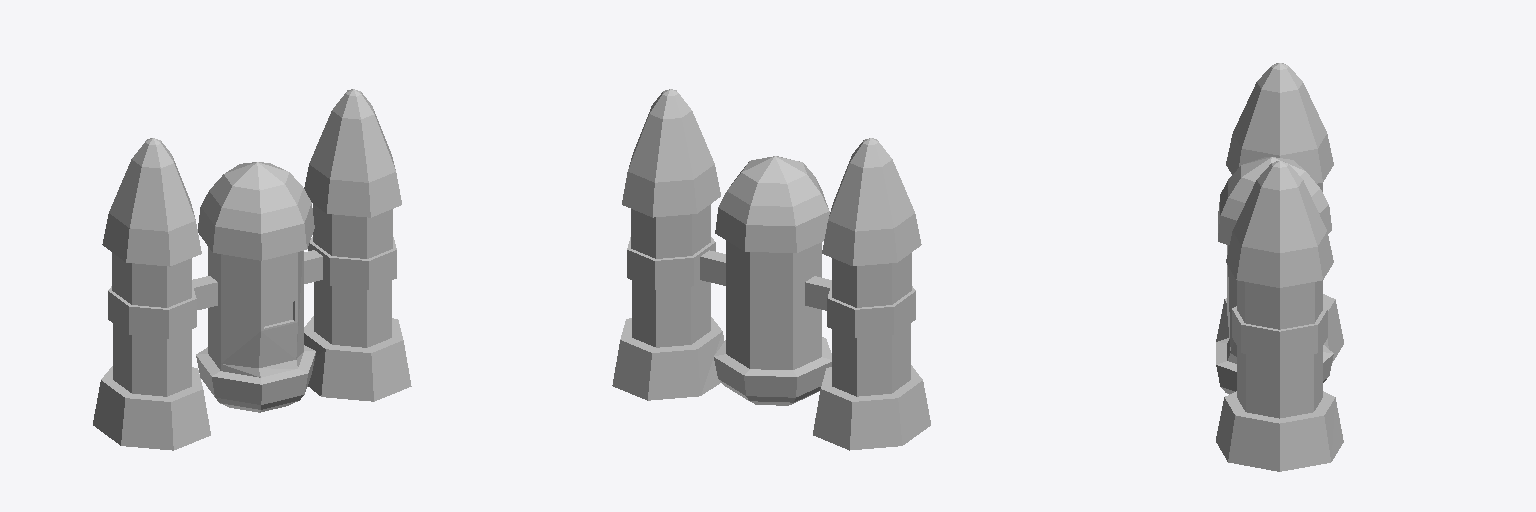
Rendered from jet pack1 .obj.
3 views of the same model, side by side, from view 1: azimuth 30°, elevation 25°; view 2: azimuth 150°, elevation 25°; view 3: azimuth 270°, elevation 25° (orthographic).
Visible parts, largest first — view 1: Cylinder.001, Circle.001; view 2: Cylinder.001, Circle.001; view 3: Cylinder.001, Circle.001.
Part boxes in pixels (left/top/right/bottom): Cylinder.001: left=93, top=89, right=411, bottom=450; Circle.001: left=196, top=162, right=315, bottom=412; Cylinder.001: left=612, top=89, right=930, bottom=450; Circle.001: left=714, top=156, right=831, bottom=405; Cylinder.001: left=1216, top=63, right=1343, bottom=471; Circle.001: left=1216, top=157, right=1333, bottom=394.
Size of the model in its own units: 2.47 by 2.26 by 0.9229.